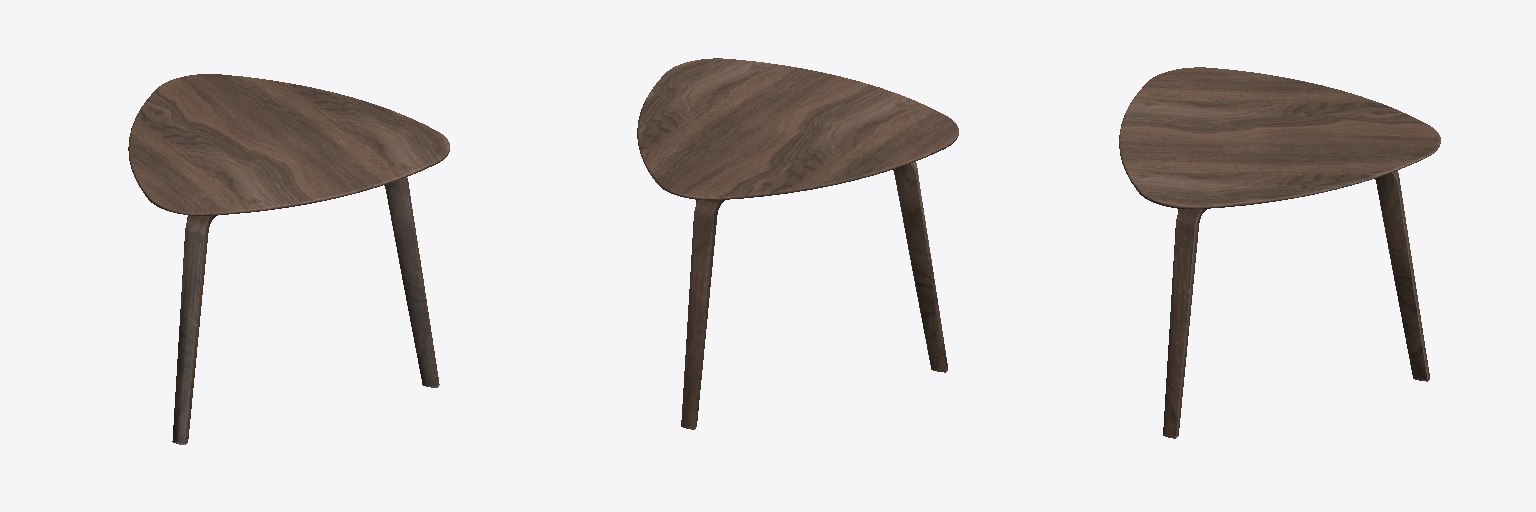
3 renders of one model, left to right at view 1: azimuth 30°, elevation 25°; view 2: azimuth 150°, elevation 25°; view 3: azimuth 270°, elevation 25°, orthographic.
Parts seen in each view (by area): view 1: solid_001; view 2: solid_001; view 3: solid_001.
Part boxes in pixels (bbox=[...]): solid_001: bbox=[128, 74, 449, 444]; solid_001: bbox=[637, 58, 958, 429]; solid_001: bbox=[1119, 67, 1440, 438].
Bounding box in the file's own units: 1.54 × 1.23 × 1.5.
1 materials, 1 textured.